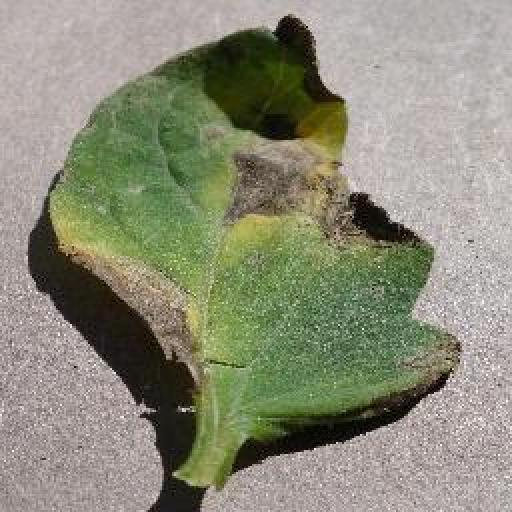Early Blight: (44, 14, 462, 438)
